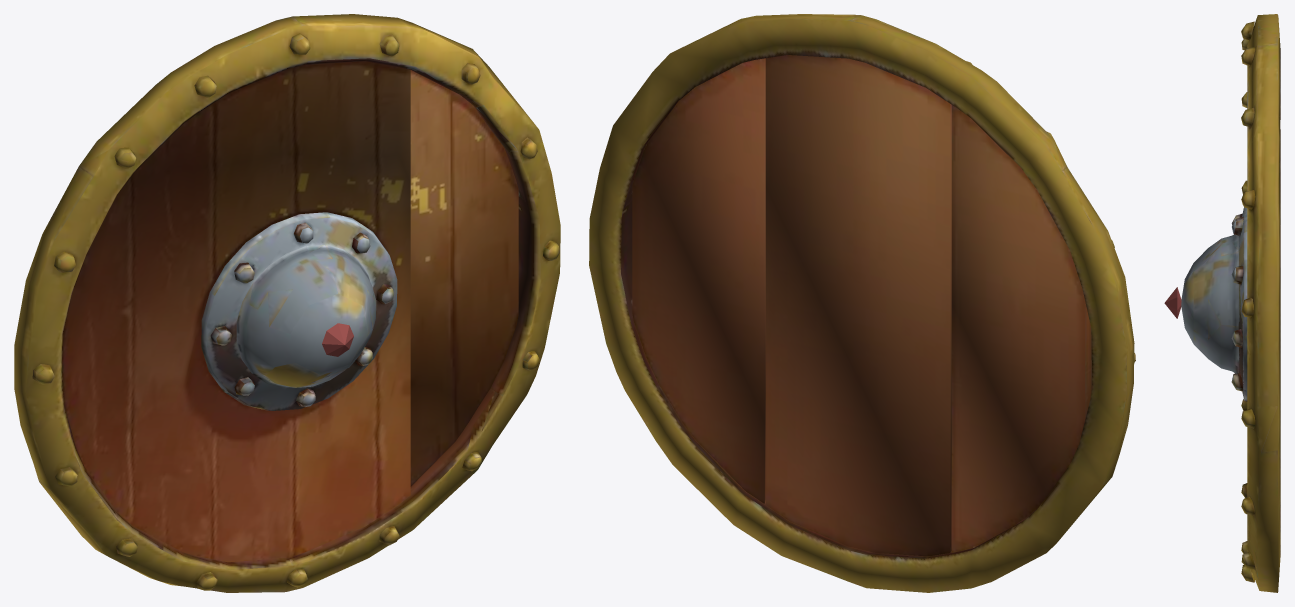
File: shield_epic_crucible_heat_blue_iron.glb
The picture shows the model from 3 angles, left to right: view 1: azimuth 30°, elevation 25°; view 2: azimuth 150°, elevation 25°; view 3: azimuth 270°, elevation 25°; orthographic projection. The views are drawn at different scales.
Visible parts, largest first — view 1: tripo_node_f7783e4c-b576-4f22-851e-c00c5b85049a; view 2: tripo_node_f7783e4c-b576-4f22-851e-c00c5b85049a; view 3: tripo_node_f7783e4c-b576-4f22-851e-c00c5b85049a.
Boxes of the visible parts, box(x1,y1,x2,y2) form: tripo_node_f7783e4c-b576-4f22-851e-c00c5b85049a: box(14, 14, 560, 592); tripo_node_f7783e4c-b576-4f22-851e-c00c5b85049a: box(589, 14, 1135, 592); tripo_node_f7783e4c-b576-4f22-851e-c00c5b85049a: box(1164, 14, 1280, 592).
Bounding box in the file's own units: 1 × 1 × 0.2009.
Materials: 1 (1 with a texture image).
